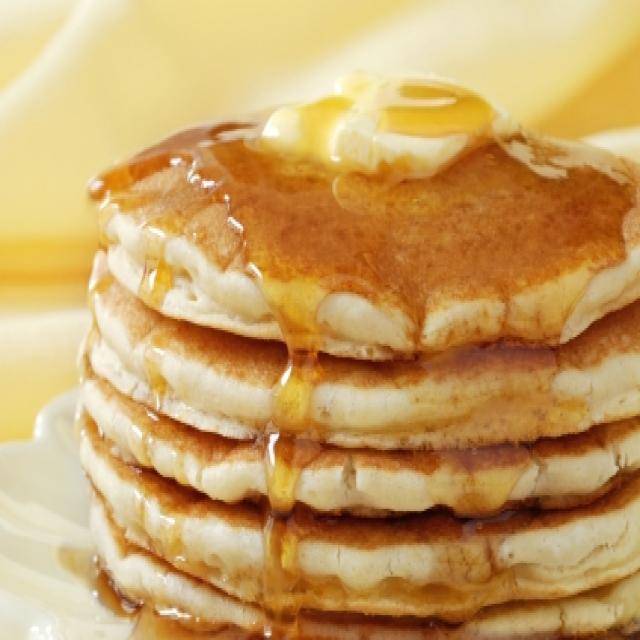蛋糕甜品: (65, 56, 629, 626)
